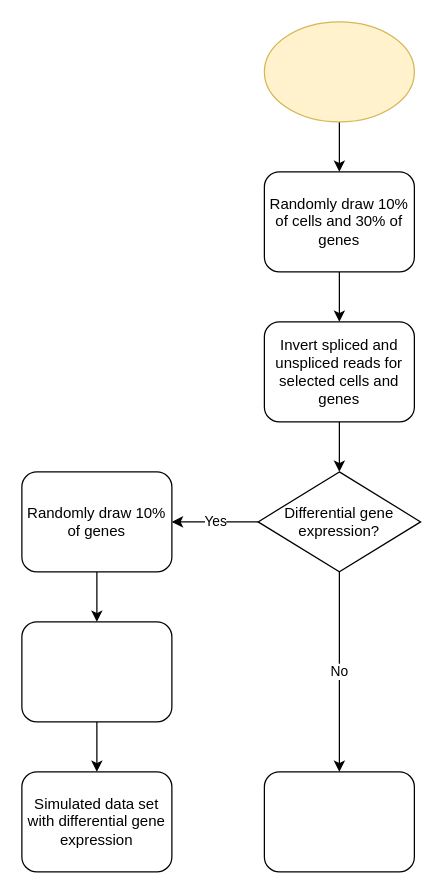
This 443x894 diagram has some shape labels left out. Here are the shapes that lost their labels. From the top down, the box of each, then its label:
(263, 21, 414, 122): Processed single-cell experiment
(21, 621, 172, 722): Two-fold the spliced and unspliced reads for selected genes
(263, 771, 414, 872): Simulated data set without differential gene expression
